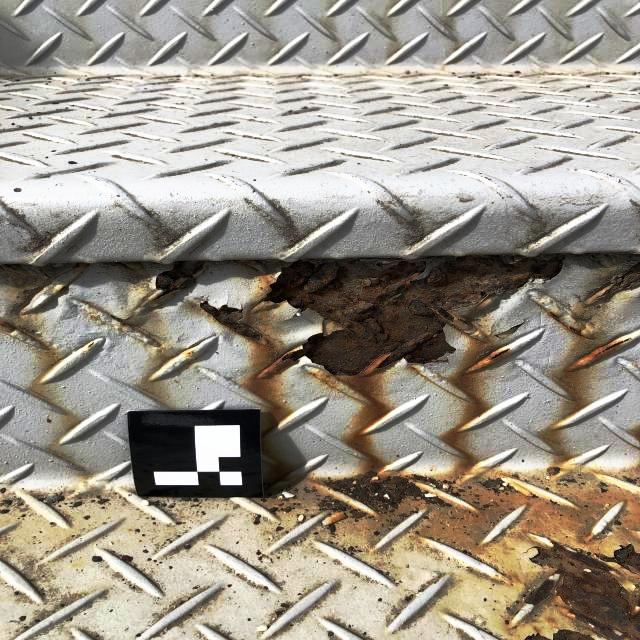Corrosion: (266, 255, 566, 379), (513, 533, 640, 640), (198, 298, 276, 346), (151, 260, 212, 308), (591, 262, 640, 305), (460, 343, 517, 370), (583, 335, 633, 364)
